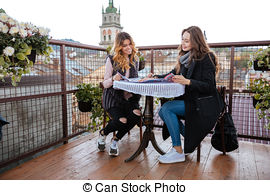face: (176, 23, 203, 52), (115, 30, 140, 60)
